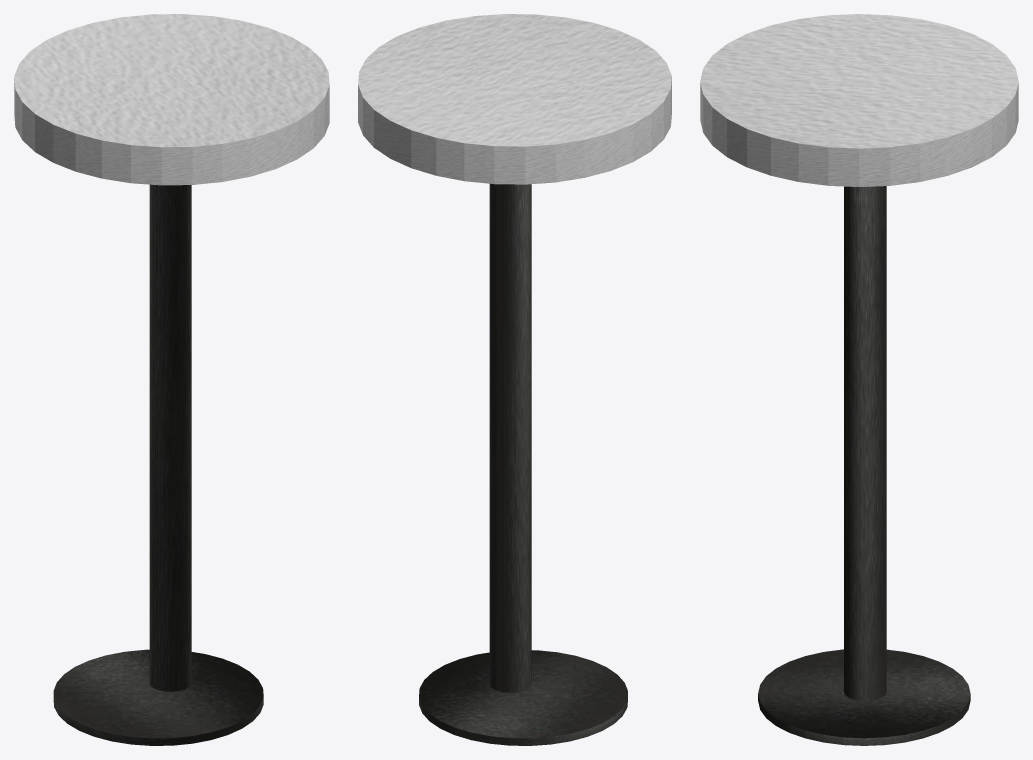
The model's file is tallTable.obj.
The picture shows the model from 3 angles, left to right: view 1: azimuth 30°, elevation 25°; view 2: azimuth 150°, elevation 25°; view 3: azimuth 270°, elevation 25°; orthographic projection.
Visible parts, largest first — view 1: Cylinder.006_Material.002, Cylinder.006_Material.001; view 2: Cylinder.006_Material.002, Cylinder.006_Material.001; view 3: Cylinder.006_Material.002, Cylinder.006_Material.001.
Part boxes in pixels (x1,y1,x2,y2): Cylinder.006_Material.002: [14, 14, 329, 185]; Cylinder.006_Material.001: [53, 184, 263, 745]; Cylinder.006_Material.002: [358, 14, 671, 184]; Cylinder.006_Material.001: [419, 183, 627, 745]; Cylinder.006_Material.002: [700, 14, 1018, 186]; Cylinder.006_Material.001: [758, 186, 970, 745].
Size of the model in its own units: 1.5 by 3.25 by 1.5.
